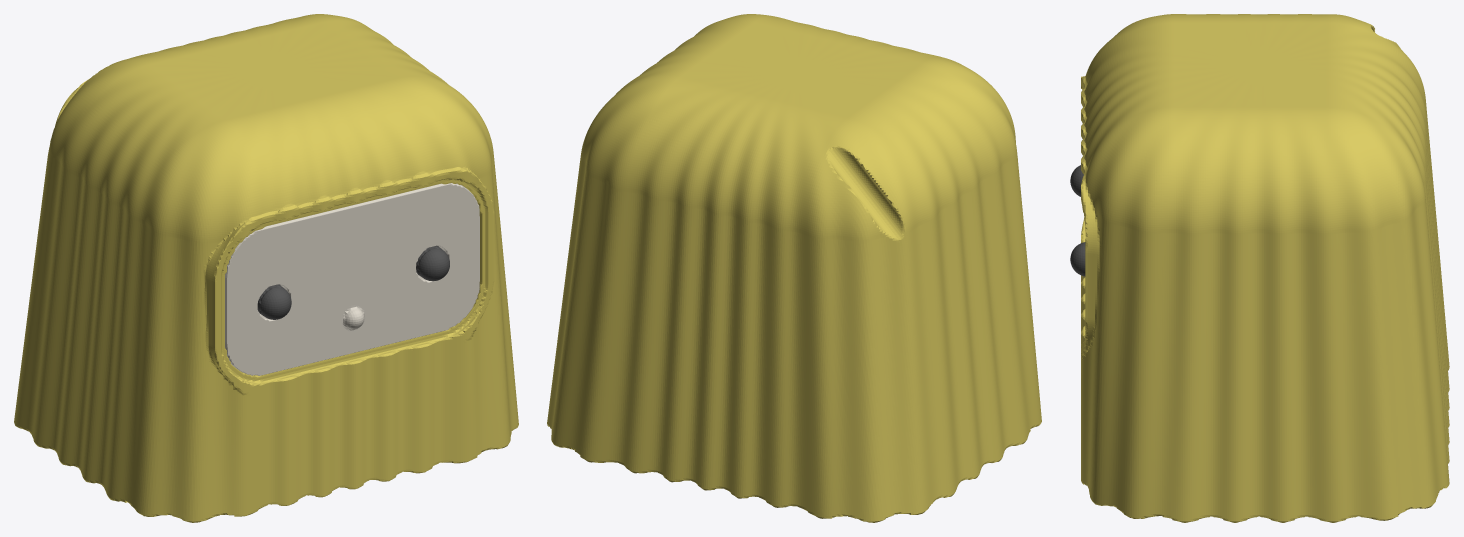
File: bloki_trapecio.glb
The picture shows the model from 3 angles, left to right: view 1: azimuth 30°, elevation 25°; view 2: azimuth 150°, elevation 25°; view 3: azimuth 270°, elevation 25°; orthographic projection. The views are drawn at different scales.
Parts seen in each view (by area): view 1: world; view 2: world; view 3: world.
Part boxes in pixels (<box>): world: <box>14,14,518,522</box>; world: <box>547,14,1041,522</box>; world: <box>1070,14,1449,522</box>.
Bounding box in the file's own units: 39.52 × 34.5 × 32.78.
